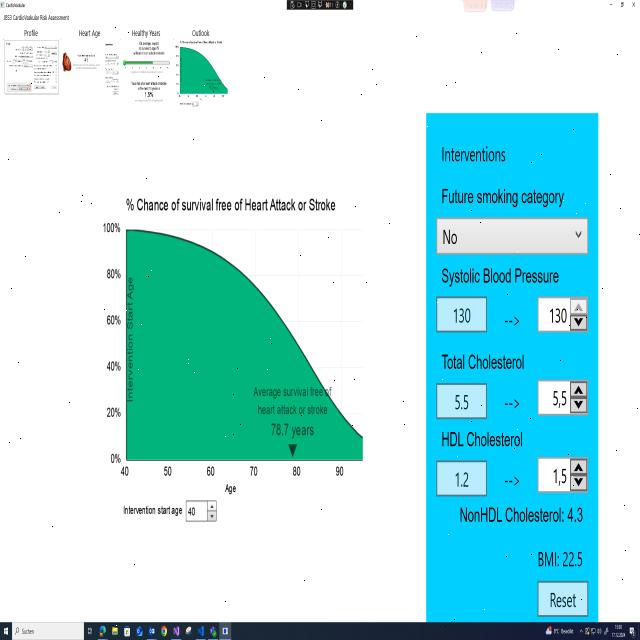button: (433, 294, 490, 338), (434, 456, 491, 498), (434, 380, 490, 422), (534, 578, 590, 619), (604, 0, 618, 12), (628, 0, 640, 13), (617, 0, 628, 13)
dropdownMenu: (434, 214, 592, 261)
input: (13, 622, 83, 640)
label: (122, 194, 337, 217), (438, 183, 566, 210), (457, 502, 588, 528), (439, 347, 528, 379), (439, 265, 560, 287), (439, 427, 527, 452), (438, 140, 508, 169), (536, 542, 588, 573), (120, 499, 182, 519), (1, 10, 72, 25), (500, 388, 525, 414), (128, 25, 166, 38), (500, 469, 522, 491), (76, 22, 103, 38), (500, 311, 520, 328), (190, 27, 213, 38), (22, 28, 41, 36)
upDown: (535, 374, 590, 426), (537, 292, 591, 344), (534, 450, 590, 497), (184, 496, 220, 530)
